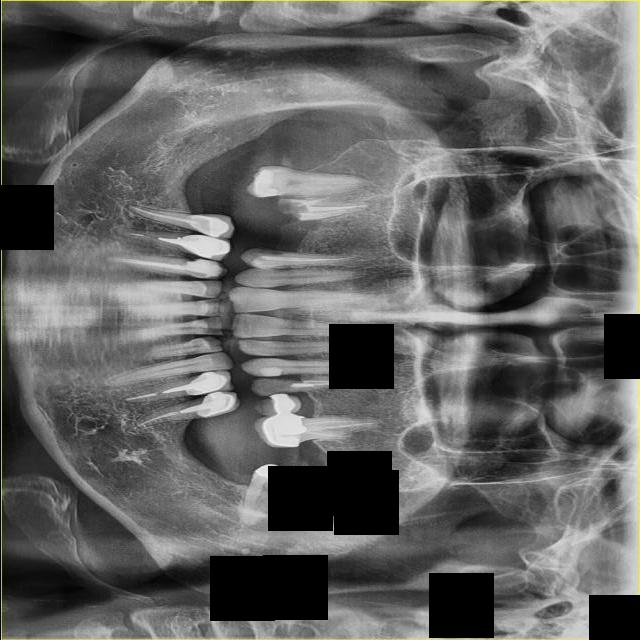71: (161, 376, 220, 401), (156, 236, 220, 254), (178, 397, 225, 414), (290, 382, 317, 388)
74: (128, 207, 197, 225), (108, 256, 186, 270), (261, 255, 346, 264), (135, 410, 177, 427), (305, 424, 373, 431), (303, 418, 357, 426), (306, 205, 367, 212), (303, 379, 355, 387), (307, 431, 352, 440), (295, 197, 335, 207), (125, 392, 158, 401), (299, 211, 342, 216), (128, 231, 146, 238)
NucleOSS Implant: (252, 459, 298, 488)
Sterngold Implant: (274, 194, 308, 222), (253, 378, 291, 397), (249, 248, 286, 261)
Straumann Implant: (247, 167, 280, 203), (181, 255, 223, 277), (259, 367, 285, 376)
Zimmer Implant: (194, 386, 243, 420), (182, 210, 236, 240), (254, 415, 306, 446), (176, 232, 230, 261), (185, 368, 234, 397), (252, 391, 301, 419)
